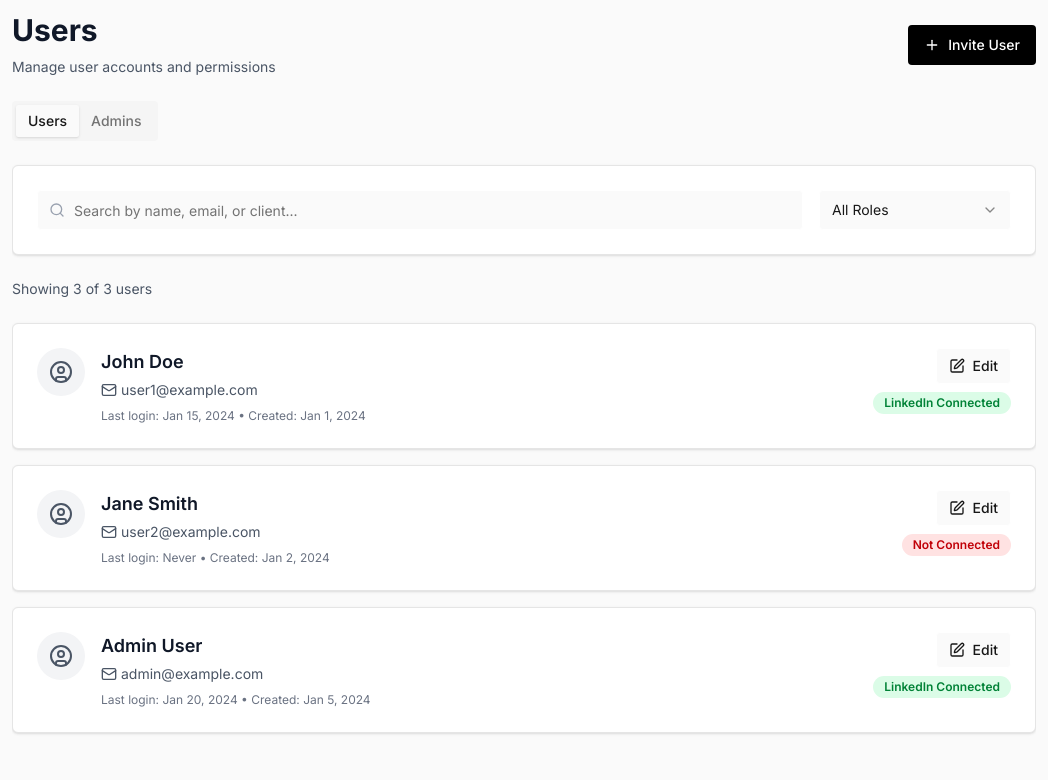
Test: AdminUsersPage › Search Functionality › should filter by email
Expected: the heading "John Doe" is shown, [101,348,184,376]
In the field with placeholder "Search by name, email, or client...": (420, 210) [37,190,803,230], type "user2@"
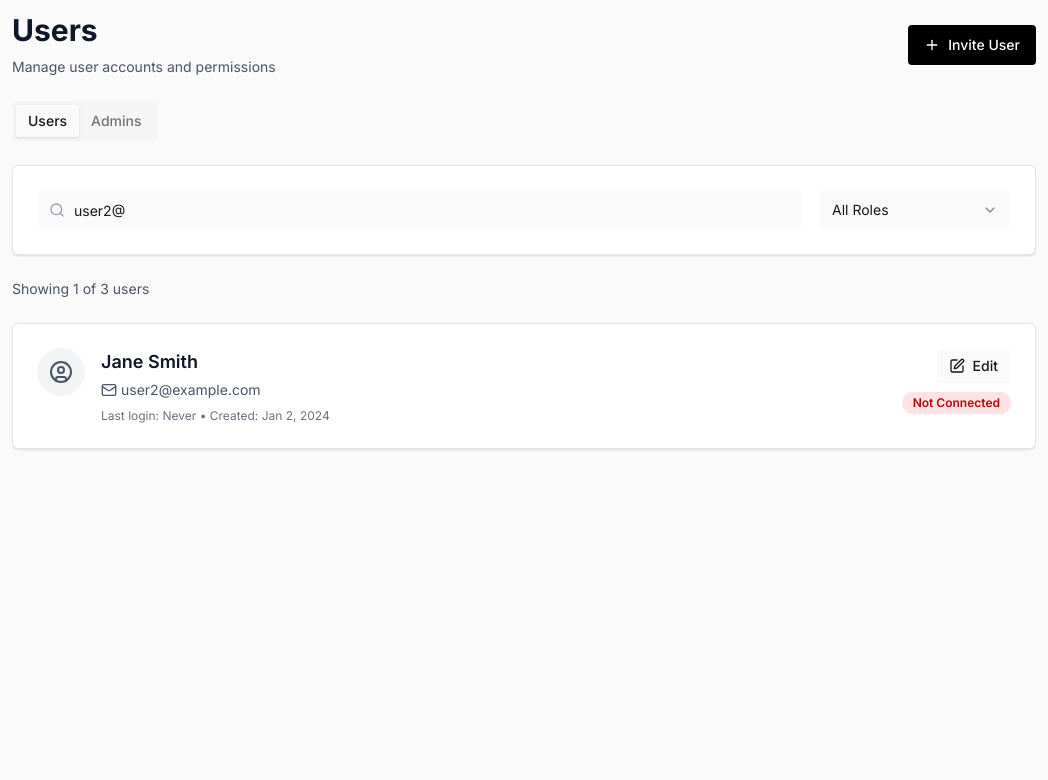
Expected: the heading "Jane Smith" is shown, [101,348,198,376]
Result: the heading "John Doe" is gone
